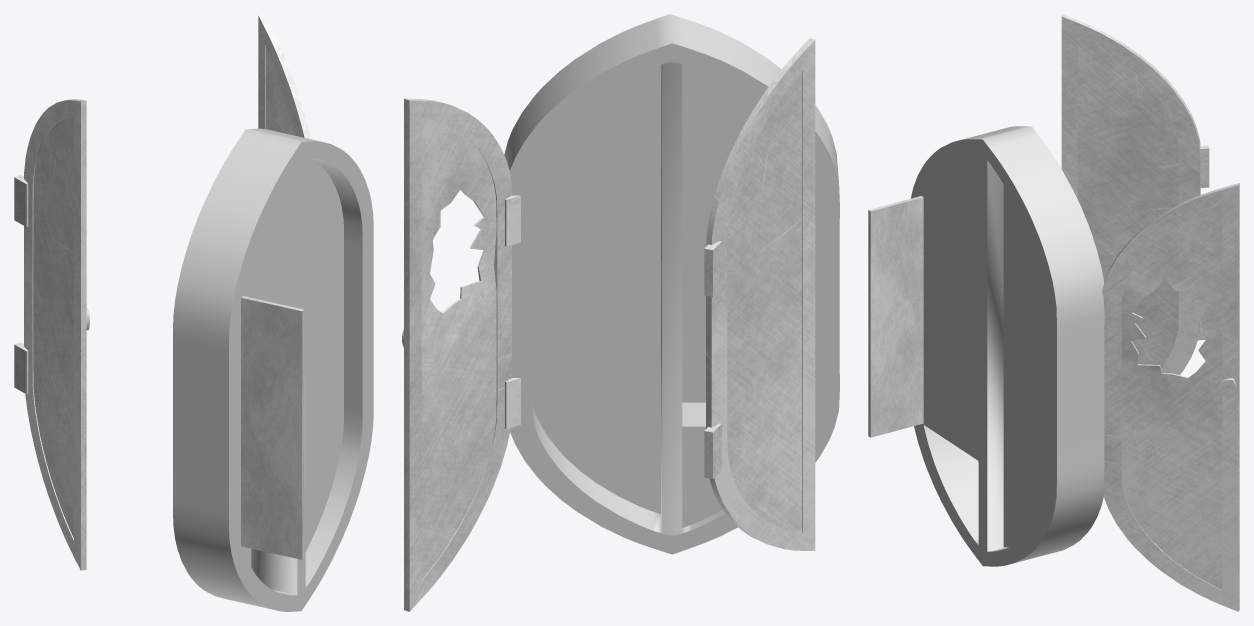
Rendered from fusebox.fbx.
3 views of the same model, side by side, from view 1: azimuth 30°, elevation 25°; view 2: azimuth 150°, elevation 25°; view 3: azimuth 270°, elevation 25° (orthographic). The views are drawn at different scales.
Parts seen in each view (by area): view 1: box, doors.001, Cube__17_.001, doors; view 2: box, doors.001, doors; view 3: box, doors, doors.001, Cube__17_.001.
Part boxes in pixels (x1,y1,x2,y2): box: (173, 128, 373, 611); doors.001: (14, 99, 89, 570); Cube__17_.001: (241, 296, 304, 559); doors: (258, 14, 310, 138); box: (504, 14, 839, 554); doors.001: (704, 38, 815, 550); doors: (402, 98, 520, 611); box: (911, 126, 1104, 566); doors: (1102, 183, 1239, 611); doors.001: (1061, 14, 1209, 375); Cube__17_.001: (868, 196, 923, 437).
Bounding box in the file's own units: 173 × 297 × 211.
